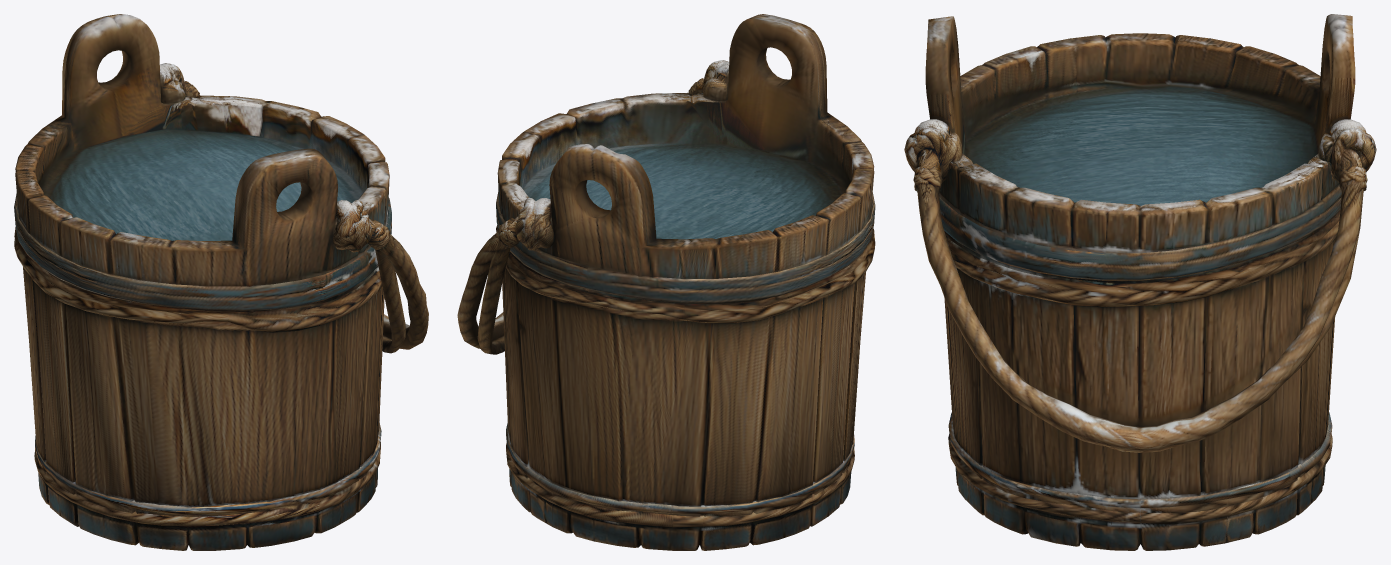
The model's file is SM_Env_HeorotWoodenBucket.fbx.
The picture shows the model from 3 angles, left to right: view 1: azimuth 30°, elevation 25°; view 2: azimuth 150°, elevation 25°; view 3: azimuth 270°, elevation 25°; orthographic projection. The views are drawn at different scales.
Parts seen in each view (by area): view 1: SM_Env_HeorotWoodenBucket; view 2: SM_Env_HeorotWoodenBucket; view 3: SM_Env_HeorotWoodenBucket.
Boxes of the visible parts, x1=… form: SM_Env_HeorotWoodenBucket: x1=14, y1=14, x2=428, y2=550; SM_Env_HeorotWoodenBucket: x1=457, y1=14, x2=875, y2=550; SM_Env_HeorotWoodenBucket: x1=904, y1=14, x2=1376, y2=550.
Bounding box in the file's own units: 10.99 × 11.45 × 12.
Materials: 1 (1 with a texture image).
